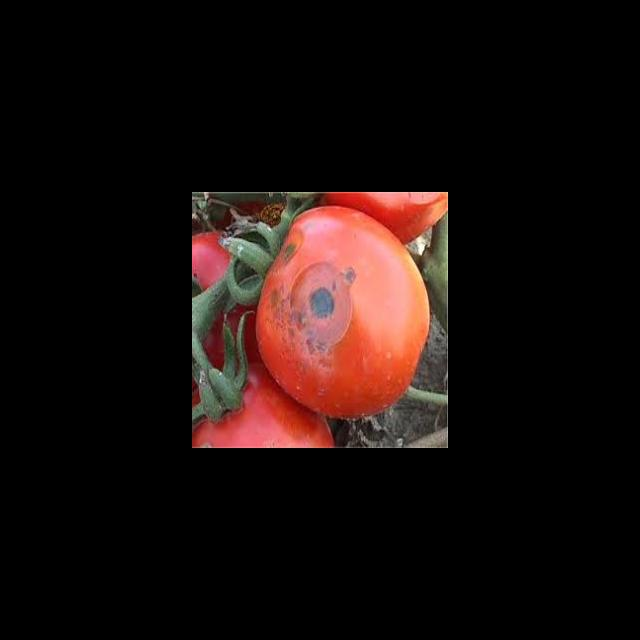tomato: (233, 199, 431, 414)
